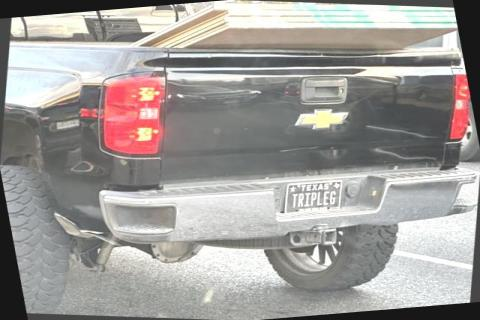LicensePlate: (282, 177, 340, 212)
